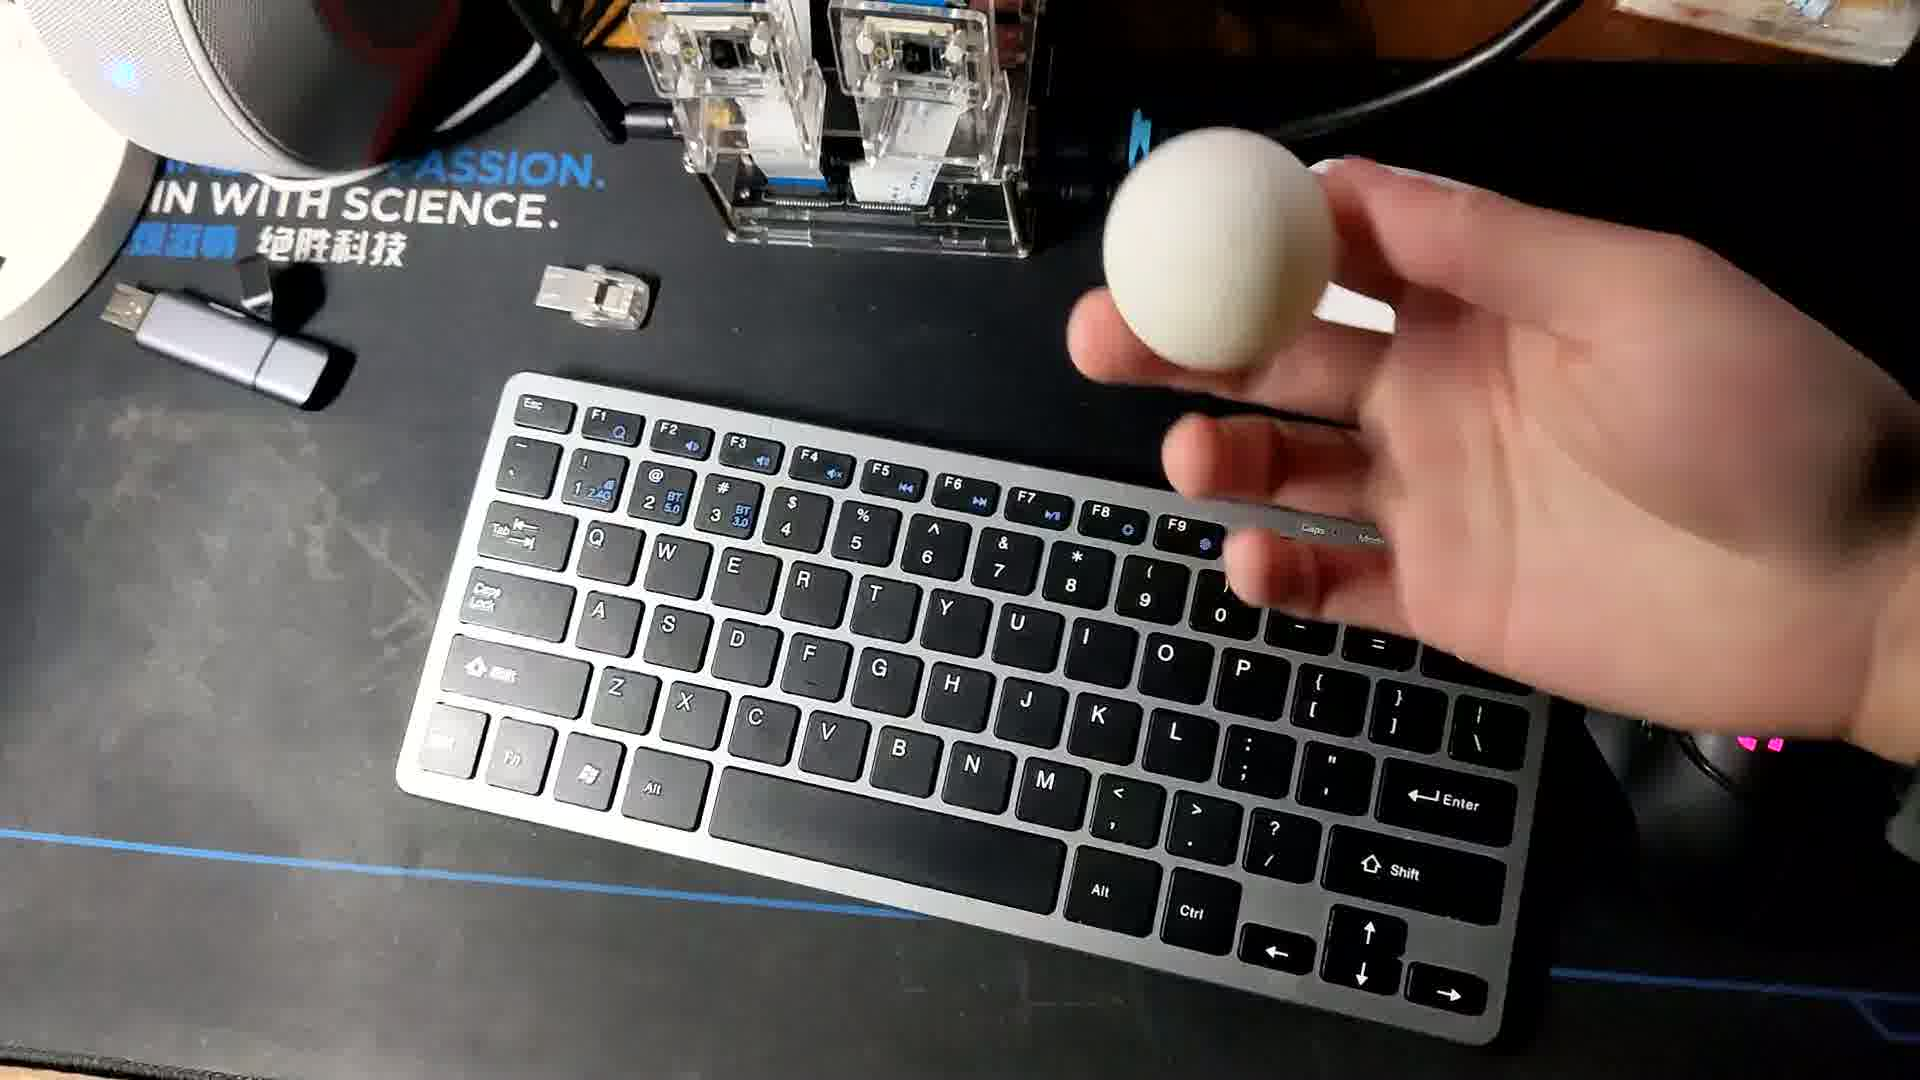Ball: (1102, 129, 1333, 375)
